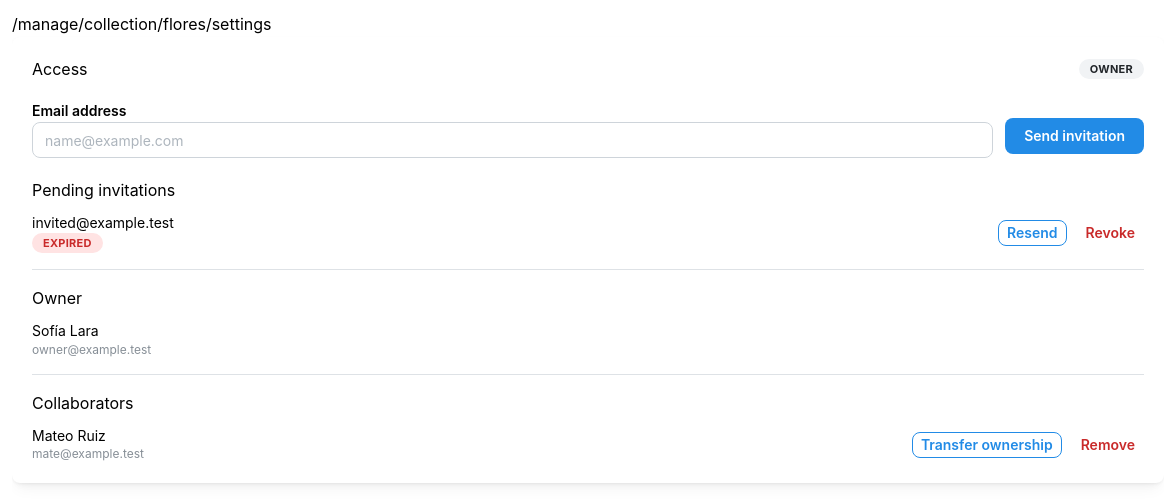
the owner's access card › a resend refreshes the row's expiry and re-arms the cooldown
Click the button "Resend". click: (1032, 233)
box: [998,220,1067,246]
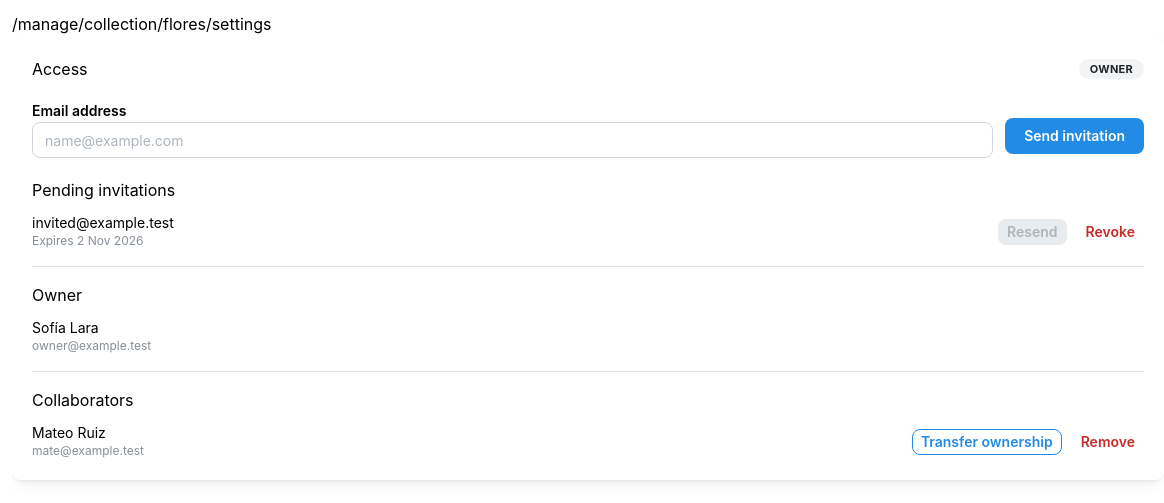
Check: the text "Expired" is gone
Check: the button "Resend" is disabled, box [998,219,1067,245]
